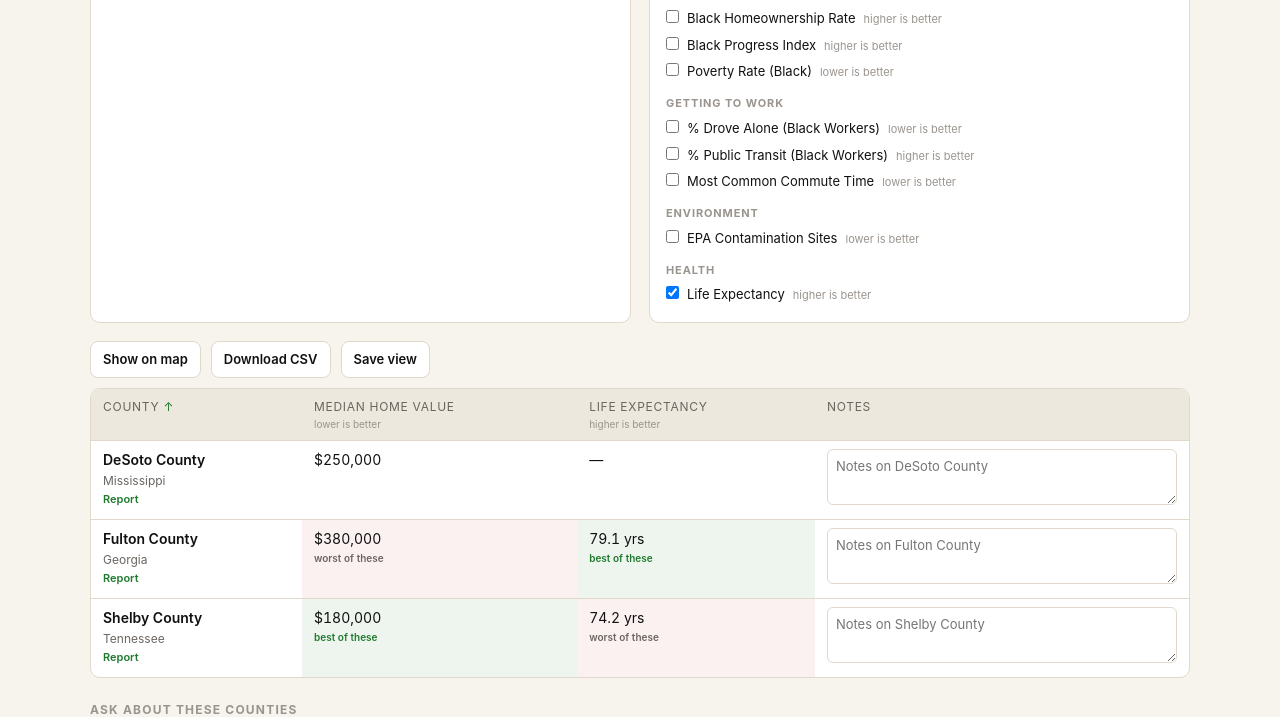
CompareView — Show on map, in place (P6-14) › downloads no county polygons until the pane is opened
(page scrolled)
Click the button with test id "compare-map-open": (145,359) [90, 341, 201, 378]
(page scrolled)
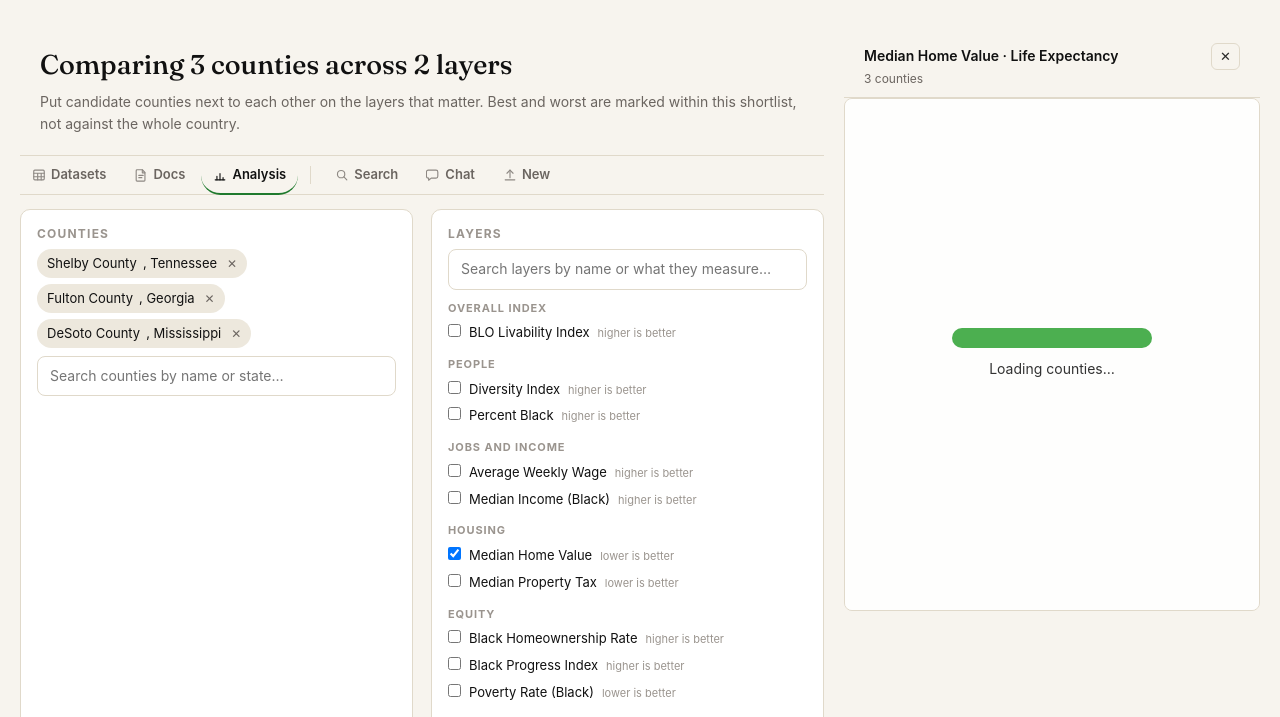
Result: the element with test id "compare-map-pane" is shown at [844, 31, 1260, 611]
